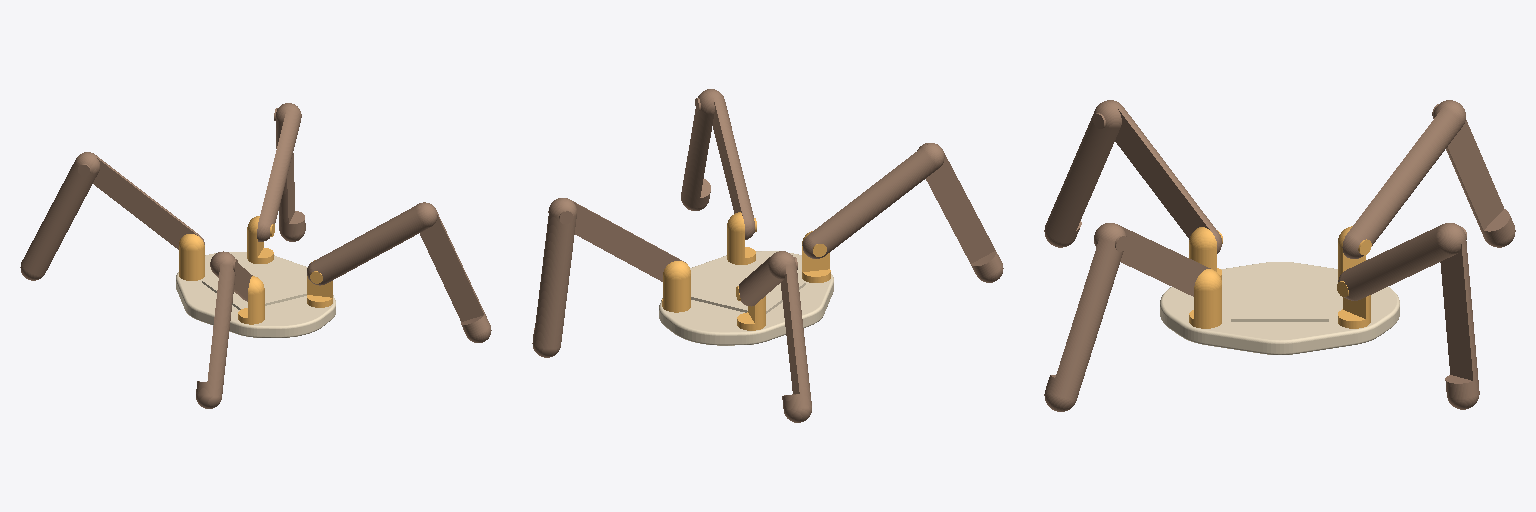
The robot description file, URDF, robot "droid":
<?xml version="1.0" ?>
<!-- Generated using onshape-to-robot -->
<!-- Onshape https://cad.onshape.com/documents/39d48276447cd48c86498015/w/39b3d8215a40ceebd5846695/e/a41b11f439c5da9336695592 -->
<robot name="droid">
  <!-- Link base_link -->
  <link name="base_link">
    <inertial>
      <origin xyz="0 0 0" rpy="0 0 0"/>
      <mass value="1e-09"/>
      <inertia ixx="1e-09" ixy="0" ixz="0" iyy="1e-09" iyz="0" izz="1e-09"/>
    </inertial>
  </link>
  <!-- Link body -->
  <link name="body">
    <inertial>
      <origin xyz="0 -0 0.00260792" rpy="0 0 0"/>
      <mass value="0.0199018"/>
      <inertia ixx="6.11183e-06" ixy="0" ixz="0" iyy="3.7272e-06" iyz="0" izz="9.7415e-06"/>
    </inertial>
    <!-- Part body -->
    <visual>
      <origin xyz="0.0202915 -0 0" rpy="0 -0 0"/>
      <geometry>
        <mesh filename="package://speeder_description/assets/body.stl"/>
      </geometry>
      <material name="body_material">
        <color rgba="0.952941 0.894118 0.788235 1"/>
      </material>
    </visual>
    <collision>
      <origin xyz="0.0202915 -0 0" rpy="0 -0 0"/>
      <geometry>
        <mesh filename="package://speeder_description/assets/body.stl"/>
      </geometry>
    </collision>
  </link>
  <!-- Link base_arm -->
  <link name="base_arm">
    <inertial>
      <origin xyz="0 -0.000821445 -0.00846774" rpy="0 0 0"/>
      <mass value="0.00126809"/>
      <inertia ixx="4.8105e-08" ixy="0" ixz="-0" iyy="4.813e-08" iyz="-2.117e-09" izz="1.4267e-08"/>
    </inertial>
    <!-- Part base_arm -->
    <visual>
      <origin xyz="0.0411943 -0.00227465 0" rpy="3.14159 -0 0"/>
      <geometry>
        <mesh filename="package://speeder_description/assets/base_arm.stl"/>
      </geometry>
      <material name="base_arm_material">
        <color rgba="1 0.772549 0.439216 1"/>
      </material>
    </visual>
    <collision>
      <origin xyz="0.0411943 -0.00227465 0" rpy="3.14159 -0 0"/>
      <geometry>
        <mesh filename="package://speeder_description/assets/base_arm.stl"/>
      </geometry>
    </collision>
  </link>
  <!-- Link first_leg_1 -->
  <link name="first_leg_1">
    <inertial>
      <origin xyz="1.1904e-08 -0.0271462 0.00315744" rpy="0 0 0"/>
      <mass value="0.00278753"/>
      <inertia ixx="7.46524e-07" ixy="0" ixz="0" iyy="2.4267e-08" iyz="1.1974e-08" izz="7.56242e-07"/>
    </inertial>
    <!-- Part arm1 -->
    <visual>
      <origin xyz="0.0211943 0.015 -0.00518933" rpy="1.5708 -0 -0"/>
      <geometry>
        <mesh filename="package://speeder_description/assets/arm1.stl"/>
      </geometry>
      <material name="arm1_material">
        <color rgba="0.662745 0.545098 0.462745 1"/>
      </material>
    </visual>
    <collision>
      <origin xyz="0.0211943 0.015 -0.00518933" rpy="1.5708 -0 -0"/>
      <geometry>
        <mesh filename="package://speeder_description/assets/arm1.stl"/>
      </geometry>
    </collision>
  </link>
  <!-- Link second_leg_1 -->
  <link name="second_leg_1">
    <inertial>
      <origin xyz="-1.008e-09 -0.0291753 0.00350177" rpy="0 0 0"/>
      <mass value="0.00307395"/>
      <inertia ixx="8.76015e-07" ixy="0" ixz="-0" iyy="3.0359e-08" iyz="3.2666e-08" izz="8.83959e-07"/>
    </inertial>
    <!-- Part arm2 -->
    <visual>
      <origin xyz="0.0411943 -0.065 0.00276138" rpy="-1.5708 0 0"/>
      <geometry>
        <mesh filename="package://speeder_description/assets/arm2.stl"/>
      </geometry>
      <material name="arm2_material">
        <color rgba="0.662745 0.545098 0.462745 1"/>
      </material>
    </visual>
    <collision>
      <origin xyz="0.0411943 -0.065 0.00276138" rpy="-1.5708 0 0"/>
      <geometry>
        <mesh filename="package://speeder_description/assets/arm2.stl"/>
      </geometry>
    </collision>
  </link>
  <!-- Joint from first_leg_1 to second_leg_1 -->
  <joint name="second_leg_1" type="revolute">
    <origin xyz="-0 -0.05 0.010036" rpy="-3.14159 0 -1.39626"/>
    <parent link="first_leg_1"/>
    <child link="second_leg_1"/>
    <axis xyz="0 0 1"/>
    <limit effort="10" velocity="10" lower="-1.13446" upper="1.5708"/>
  </joint>
  <!-- Joint from base_arm to first_leg_1 -->
  <joint name="first_leg_1" type="revolute">
    <origin xyz="0 0.005 -0.015" rpy="1.5708 -0.959931 -0"/>
    <parent link="base_arm"/>
    <child link="first_leg_1"/>
    <axis xyz="0 0 1"/>
    <limit effort="10" velocity="10" lower="-0.785398" upper="1.22173"/>
  </joint>
  <!-- Joint from body to base_arm -->
  <joint name="base_leg_1" type="revolute">
    <origin xyz="-0.015 -0.0225 0.0025" rpy="-3.14159 -0 -2.35619"/>
    <parent link="body"/>
    <child link="base_arm"/>
    <axis xyz="0 0 1"/>
    <limit effort="10" velocity="10" lower="-1.5707963268" upper="1.5707963268"/>
  </joint>
  <!-- Link base_arm_2 -->
  <link name="base_arm_2">
    <inertial>
      <origin xyz="0 -0.000821445 -0.00846774" rpy="0 0 0"/>
      <mass value="0.00126809"/>
      <inertia ixx="4.8105e-08" ixy="-0" ixz="0" iyy="4.813e-08" iyz="-2.117e-09" izz="1.4267e-08"/>
    </inertial>
    <!-- Part base_arm_2 -->
    <visual>
      <origin xyz="0.0411943 -0.00227465 0" rpy="-3.14159 0 -0"/>
      <geometry>
        <mesh filename="package://speeder_description/assets/base_arm.stl"/>
      </geometry>
      <material name="base_arm_2_material">
        <color rgba="1 0.772549 0.439216 1"/>
      </material>
    </visual>
    <collision>
      <origin xyz="0.0411943 -0.00227465 0" rpy="-3.14159 0 -0"/>
      <geometry>
        <mesh filename="package://speeder_description/assets/base_arm.stl"/>
      </geometry>
    </collision>
  </link>
  <!-- Link first_leg_2 -->
  <link name="first_leg_2">
    <inertial>
      <origin xyz="1.1904e-08 -0.0271462 0.00315744" rpy="0 0 0"/>
      <mass value="0.00278753"/>
      <inertia ixx="7.46524e-07" ixy="0" ixz="0" iyy="2.4267e-08" iyz="1.1974e-08" izz="7.56242e-07"/>
    </inertial>
    <!-- Part arm1_2 -->
    <visual>
      <origin xyz="0.0211943 0.015 -0.00518933" rpy="1.5708 -0 0"/>
      <geometry>
        <mesh filename="package://speeder_description/assets/arm1.stl"/>
      </geometry>
      <material name="arm1_2_material">
        <color rgba="0.662745 0.545098 0.462745 1"/>
      </material>
    </visual>
    <collision>
      <origin xyz="0.0211943 0.015 -0.00518933" rpy="1.5708 -0 0"/>
      <geometry>
        <mesh filename="package://speeder_description/assets/arm1.stl"/>
      </geometry>
    </collision>
  </link>
  <!-- Link second_leg_2 -->
  <link name="second_leg_2">
    <inertial>
      <origin xyz="-1.008e-09 -0.0291753 0.00350177" rpy="0 0 0"/>
      <mass value="0.00307395"/>
      <inertia ixx="8.76015e-07" ixy="0" ixz="-0" iyy="3.0359e-08" iyz="3.2666e-08" izz="8.83959e-07"/>
    </inertial>
    <!-- Part arm2_2 -->
    <visual>
      <origin xyz="0.0411943 -0.065 0.00276138" rpy="-1.5708 0 -0"/>
      <geometry>
        <mesh filename="package://speeder_description/assets/arm2.stl"/>
      </geometry>
      <material name="arm2_2_material">
        <color rgba="0.662745 0.545098 0.462745 1"/>
      </material>
    </visual>
    <collision>
      <origin xyz="0.0411943 -0.065 0.00276138" rpy="-1.5708 0 -0"/>
      <geometry>
        <mesh filename="package://speeder_description/assets/arm2.stl"/>
      </geometry>
    </collision>
  </link>
  <!-- Joint from first_leg_2 to second_leg_2 -->
  <joint name="second_leg_2" type="revolute">
    <origin xyz="-0 -0.05 0.010036" rpy="-3.14159 0 -1.39626"/>
    <parent link="first_leg_2"/>
    <child link="second_leg_2"/>
    <axis xyz="0 0 1"/>
    <limit effort="10" velocity="10" lower="-1.13446" upper="1.5708"/>
  </joint>
  <!-- Joint from base_arm_2 to first_leg_2 -->
  <joint name="first_leg_2" type="revolute">
    <origin xyz="0 0.005 -0.015" rpy="1.5708 -0.959931 -0"/>
    <parent link="base_arm_2"/>
    <child link="first_leg_2"/>
    <axis xyz="0 0 1"/>
    <limit effort="10" velocity="10" lower="-0.785398" upper="1.22173"/>
  </joint>
  <!-- Joint from body to base_arm_2 -->
  <joint name="base_leg_2" type="revolute">
    <origin xyz="-0.015 0.0225 0.0025" rpy="-3.14159 -0 2.35619"/>
    <parent link="body"/>
    <child link="base_arm_2"/>
    <axis xyz="0 0 1"/>
    <limit effort="10" velocity="10" lower="-1.5708" upper="1.5708"/>
  </joint>
  <!-- Link base_arm_3 -->
  <link name="base_arm_3">
    <inertial>
      <origin xyz="0 -0.000821445 -0.00846774" rpy="0 0 0"/>
      <mass value="0.00126809"/>
      <inertia ixx="4.8105e-08" ixy="0" ixz="-0" iyy="4.813e-08" iyz="-2.117e-09" izz="1.4267e-08"/>
    </inertial>
    <!-- Part base_arm_3 -->
    <visual>
      <origin xyz="0.0411943 -0.00227465 0" rpy="3.14159 0 0"/>
      <geometry>
        <mesh filename="package://speeder_description/assets/base_arm.stl"/>
      </geometry>
      <material name="base_arm_3_material">
        <color rgba="1 0.772549 0.439216 1"/>
      </material>
    </visual>
    <collision>
      <origin xyz="0.0411943 -0.00227465 0" rpy="3.14159 0 0"/>
      <geometry>
        <mesh filename="package://speeder_description/assets/base_arm.stl"/>
      </geometry>
    </collision>
  </link>
  <!-- Link first_leg_3 -->
  <link name="first_leg_3">
    <inertial>
      <origin xyz="1.1904e-08 -0.0271462 0.00315744" rpy="0 0 0"/>
      <mass value="0.00278753"/>
      <inertia ixx="7.46524e-07" ixy="0" ixz="0" iyy="2.4267e-08" iyz="1.1974e-08" izz="7.56242e-07"/>
    </inertial>
    <!-- Part arm1_3 -->
    <visual>
      <origin xyz="0.0211943 0.015 -0.00518933" rpy="1.5708 -0 0"/>
      <geometry>
        <mesh filename="package://speeder_description/assets/arm1.stl"/>
      </geometry>
      <material name="arm1_3_material">
        <color rgba="0.662745 0.545098 0.462745 1"/>
      </material>
    </visual>
    <collision>
      <origin xyz="0.0211943 0.015 -0.00518933" rpy="1.5708 -0 0"/>
      <geometry>
        <mesh filename="package://speeder_description/assets/arm1.stl"/>
      </geometry>
    </collision>
  </link>
  <!-- Link second_leg_3 -->
  <link name="second_leg_3">
    <inertial>
      <origin xyz="-1.008e-09 -0.0291753 0.00350177" rpy="0 0 0"/>
      <mass value="0.00307395"/>
      <inertia ixx="8.76015e-07" ixy="0" ixz="-0" iyy="3.0359e-08" iyz="3.2666e-08" izz="8.83959e-07"/>
    </inertial>
    <!-- Part arm2_3 -->
    <visual>
      <origin xyz="0.0411943 -0.065 0.00276138" rpy="-1.5708 0 0"/>
      <geometry>
        <mesh filename="package://speeder_description/assets/arm2.stl"/>
      </geometry>
      <material name="arm2_3_material">
        <color rgba="0.662745 0.545098 0.462745 1"/>
      </material>
    </visual>
    <collision>
      <origin xyz="0.0411943 -0.065 0.00276138" rpy="-1.5708 0 0"/>
      <geometry>
        <mesh filename="package://speeder_description/assets/arm2.stl"/>
      </geometry>
    </collision>
  </link>
  <!-- Joint from first_leg_3 to second_leg_3 -->
  <joint name="second_leg_3" type="revolute">
    <origin xyz="-0 -0.05 0.010036" rpy="3.14159 -0 -1.07492"/>
    <parent link="first_leg_3"/>
    <child link="second_leg_3"/>
    <axis xyz="0 0 1"/>
    <limit effort="10" velocity="10" lower="-0.813125" upper="1.89214"/>
  </joint>
  <!-- Joint from base_arm_3 to first_leg_3 -->
  <joint name="first_leg_3" type="revolute">
    <origin xyz="0 0.005 -0.015" rpy="1.5708 -0.959931 -0"/>
    <parent link="base_arm_3"/>
    <child link="first_leg_3"/>
    <axis xyz="0 0 1"/>
    <limit effort="10" velocity="10" lower="-0.785398" upper="1.22173"/>
  </joint>
  <!-- Joint from body to base_arm_3 -->
  <joint name="base_leg_3" type="revolute">
    <origin xyz="0.015 0.0225 0.0025" rpy="-3.14159 -0 0.785398"/>
    <parent link="body"/>
    <child link="base_arm_3"/>
    <axis xyz="0 0 1"/>
    <limit effort="10" velocity="10" lower="-1.5708" upper="1.5708"/>
  </joint>
  <!-- Link base_arm_4 -->
  <link name="base_arm_4">
    <inertial>
      <origin xyz="0 -0.000821445 -0.00846774" rpy="0 0 0"/>
      <mass value="0.00126809"/>
      <inertia ixx="4.8105e-08" ixy="0" ixz="-0" iyy="4.813e-08" iyz="-2.117e-09" izz="1.4267e-08"/>
    </inertial>
    <!-- Part base_arm_4 -->
    <visual>
      <origin xyz="0.0411943 -0.00227465 0" rpy="3.14159 -0 -0"/>
      <geometry>
        <mesh filename="package://speeder_description/assets/base_arm.stl"/>
      </geometry>
      <material name="base_arm_4_material">
        <color rgba="1 0.772549 0.439216 1"/>
      </material>
    </visual>
    <collision>
      <origin xyz="0.0411943 -0.00227465 0" rpy="3.14159 -0 -0"/>
      <geometry>
        <mesh filename="package://speeder_description/assets/base_arm.stl"/>
      </geometry>
    </collision>
  </link>
  <!-- Link first_leg_4 -->
  <link name="first_leg_4">
    <inertial>
      <origin xyz="1.1904e-08 -0.0271462 0.00315744" rpy="0 0 0"/>
      <mass value="0.00278753"/>
      <inertia ixx="7.46524e-07" ixy="0" ixz="0" iyy="2.4267e-08" iyz="1.1974e-08" izz="7.56242e-07"/>
    </inertial>
    <!-- Part arm1_4 -->
    <visual>
      <origin xyz="0.0211943 0.015 -0.00518933" rpy="1.5708 -0 -0"/>
      <geometry>
        <mesh filename="package://speeder_description/assets/arm1.stl"/>
      </geometry>
      <material name="arm1_4_material">
        <color rgba="0.662745 0.545098 0.462745 1"/>
      </material>
    </visual>
    <collision>
      <origin xyz="0.0211943 0.015 -0.00518933" rpy="1.5708 -0 -0"/>
      <geometry>
        <mesh filename="package://speeder_description/assets/arm1.stl"/>
      </geometry>
    </collision>
  </link>
  <!-- Link second_leg_4 -->
  <link name="second_leg_4">
    <inertial>
      <origin xyz="-1.008e-09 -0.0291753 0.00350177" rpy="0 0 0"/>
      <mass value="0.00307395"/>
      <inertia ixx="8.76015e-07" ixy="0" ixz="-0" iyy="3.0359e-08" iyz="3.2666e-08" izz="8.83959e-07"/>
    </inertial>
    <!-- Part arm2_4 -->
    <visual>
      <origin xyz="0.0411943 -0.065 0.00276138" rpy="-1.5708 0 -0"/>
      <geometry>
        <mesh filename="package://speeder_description/assets/arm2.stl"/>
      </geometry>
      <material name="arm2_4_material">
        <color rgba="0.662745 0.545098 0.462745 1"/>
      </material>
    </visual>
    <collision>
      <origin xyz="0.0411943 -0.065 0.00276138" rpy="-1.5708 0 -0"/>
      <geometry>
        <mesh filename="package://speeder_description/assets/arm2.stl"/>
      </geometry>
    </collision>
  </link>
  <!-- Joint from first_leg_4 to second_leg_4 -->
  <joint name="second_leg_4" type="revolute">
    <origin xyz="-0 -0.05 0.010036" rpy="-3.14159 0 -1.39626"/>
    <parent link="first_leg_4"/>
    <child link="second_leg_4"/>
    <axis xyz="0 0 1"/>
    <limit effort="10" velocity="10" lower="-1.13446" upper="1.5708"/>
  </joint>
  <!-- Joint from base_arm_4 to first_leg_4 -->
  <joint name="first_leg_4" type="revolute">
    <origin xyz="0 0.005 -0.015" rpy="1.5708 -0.959931 -0"/>
    <parent link="base_arm_4"/>
    <child link="first_leg_4"/>
    <axis xyz="0 0 1"/>
    <limit effort="10" velocity="10" lower="-0.785398" upper="1.22173"/>
  </joint>
  <!-- Joint from body to base_arm_4 -->
  <joint name="base_leg_4" type="revolute">
    <origin xyz="0.015 -0.0225 0.0025" rpy="3.14159 -0 -0.785398"/>
    <parent link="body"/>
    <child link="base_arm_4"/>
    <axis xyz="0 0 1"/>
    <limit effort="10" velocity="10" lower="-1.5708" upper="1.5708"/>
  </joint>
  <!-- Joint from base_link to body -->
  <joint name="base_link_to_body" type="fixed">
    <origin xyz="0 0 0" rpy="0 -0 0"/>
    <parent link="base_link"/>
    <child link="body"/>
    <axis xyz="0 0 1"/>
    <limit effort="10" velocity="10"/>
  </joint>
</robot>

--- What the picture shows (computed from the rendered views, not written in the file) ---
Views: 3 orthographic renders of the robot side by side, from view 1: azimuth 30°, elevation 25°; view 2: azimuth 150°, elevation 25°; view 3: azimuth 270°, elevation 25°.
Robot: droid — 14 links, 13 joints (12 revolute, 1 fixed); root link base_link; default pose: every joint at zero.
Visible links, largest first — view 1: body, first_leg_4, second_leg_2, second_leg_4, first_leg_2, second_leg_1, first_leg_3, second_leg_3, base_arm_2, base_arm, base_arm_3, base_arm_4 (+1 smaller); view 2: body, first_leg_1, second_leg_3, second_leg_1, first_leg_3, second_leg_2, second_leg_4, first_leg_4, first_leg_2, base_arm_3, base_arm_4, base_arm (+1 smaller); view 3: body, second_leg_4, first_leg_2, second_leg_3, second_leg_1, first_leg_3, first_leg_1, second_leg_2, first_leg_4, base_arm_4, base_arm_3, base_arm (+1 smaller).
Link boxes in pixels (x1,y1,x2,y2): body: (176,252,335,337); first_leg_4: (307,204,436,285); second_leg_2: (20,153,99,280); second_leg_4: (417,202,491,342); first_leg_2: (78,152,204,249); second_leg_1: (196,252,235,408); first_leg_3: (257,103,301,241); second_leg_3: (276,103,305,241); base_arm_2: (179,234,204,280); base_arm: (238,276,264,324); base_arm_3: (247,216,274,263); base_arm_4: (307,260,332,307); body: (659,251,833,345); first_leg_1: (802,144,944,258); second_leg_3: (532,199,576,357); second_leg_1: (917,143,1003,282); first_leg_3: (548,198,685,281); second_leg_2: (781,251,811,422); second_leg_4: (681,89,714,210); first_leg_4: (695,89,754,239); first_leg_2: (739,251,797,306); base_arm_3: (662,261,690,312); base_arm_4: (727,212,756,264); base_arm: (802,231,830,282); body: (1160,262,1399,354); second_leg_4: (1044,223,1126,411); first_leg_2: (1342,101,1465,258); second_leg_3: (1440,223,1479,409); second_leg_1: (1044,101,1121,247); first_leg_3: (1338,223,1466,300); first_leg_1: (1093,100,1221,253); second_leg_2: (1433,100,1515,247); first_leg_4: (1094,223,1210,296); base_arm_4: (1189,269,1221,328); base_arm_3: (1337,281,1370,328); base_arm: (1189,227,1222,279).
Bounding box of the posed robot: 0.1278 × 0.1428 × 0.0597 m (x, y, z).
13 mesh visuals loaded from 4 distinct referenced files (4 binary STL).
